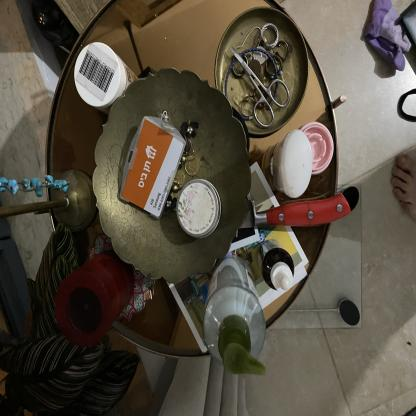Knife: (149, 182, 362, 241)
